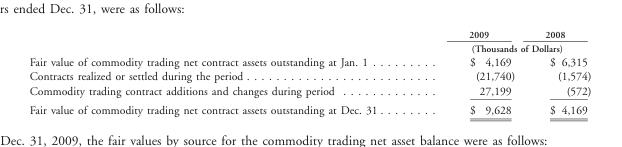table: (28, 29, 590, 116)
table column: (28, 29, 425, 116), (425, 29, 529, 116), (529, 29, 590, 116)
table column header: (28, 29, 590, 54)
table row: (28, 99, 590, 116), (28, 83, 590, 99), (28, 68, 590, 83), (28, 54, 590, 68), (28, 41, 590, 54), (28, 29, 590, 41)
table spanning cell: (425, 41, 590, 54)
